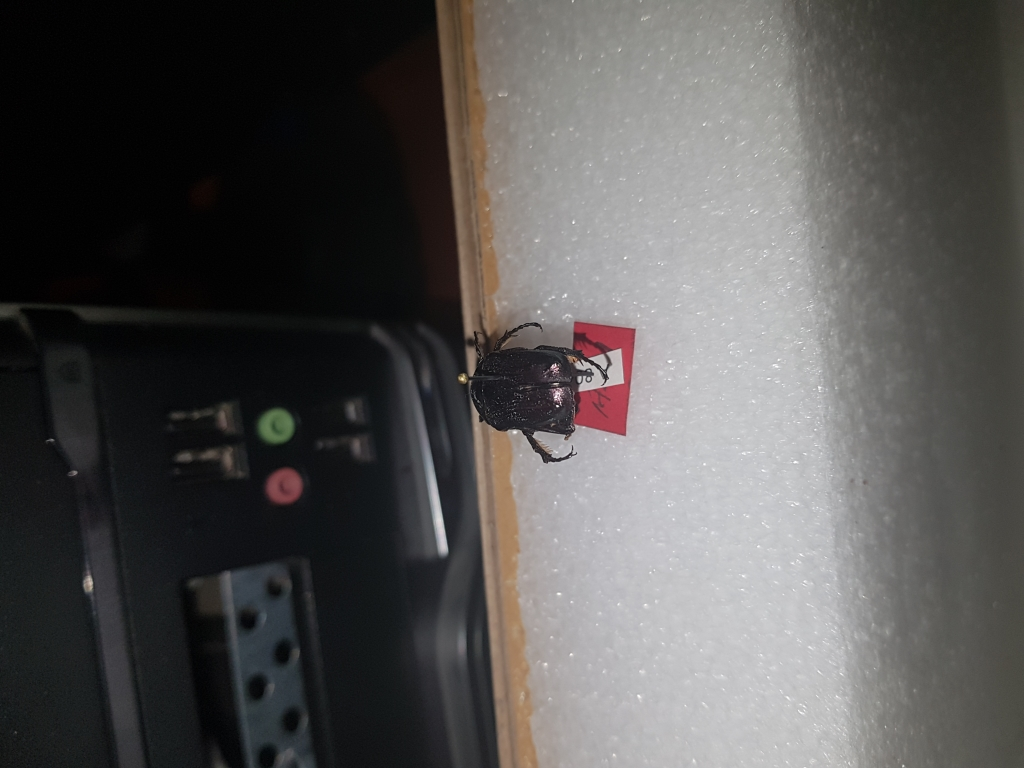Protaetia_besucheti: (459, 310, 614, 474)
